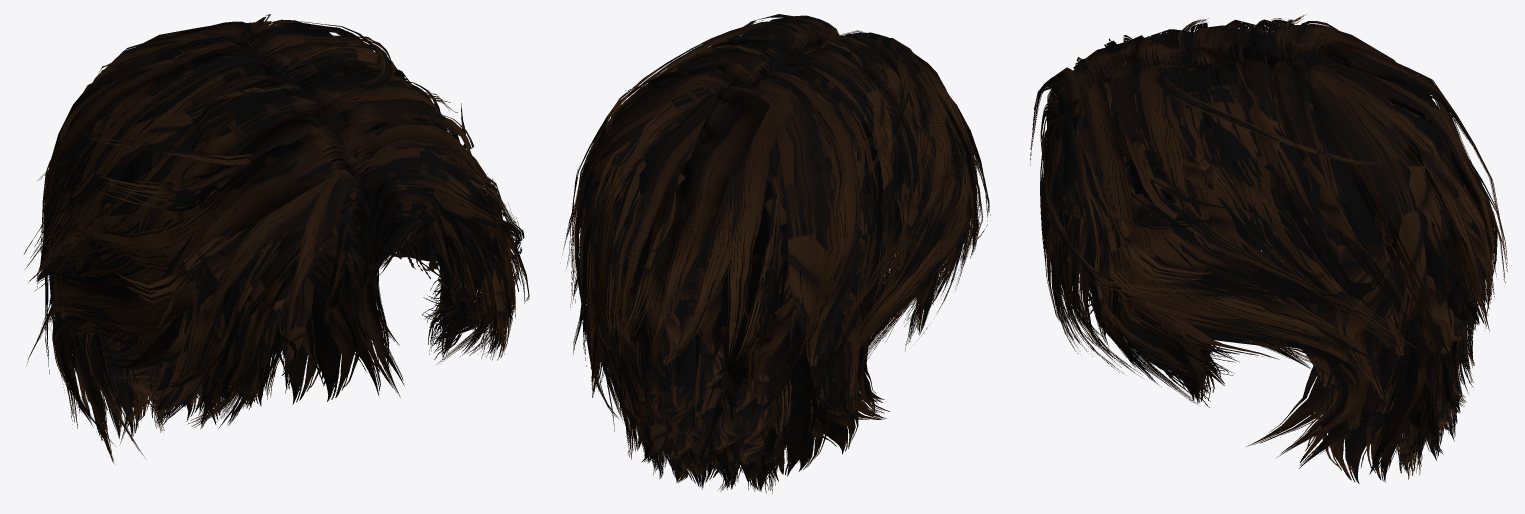
File: main_chHair.fbx
The picture shows the model from 3 angles, left to right: view 1: azimuth 30°, elevation 25°; view 2: azimuth 150°, elevation 25°; view 3: azimuth 270°, elevation 25°; orthographic projection. The views are drawn at different scales.
Parts seen in each view (by area): view 1: Object_217.002; view 2: Object_217.002; view 3: Object_217.002.
Boxes of the visible parts, left/top/right/bottom form: Object_217.002: left=23, top=14, right=529, bottom=462; Object_217.002: left=562, top=14, right=990, bottom=493; Object_217.002: left=1030, top=14, right=1507, bottom=483.
Bounding box in the file's own units: 19.83 × 21.58 × 22.72.
